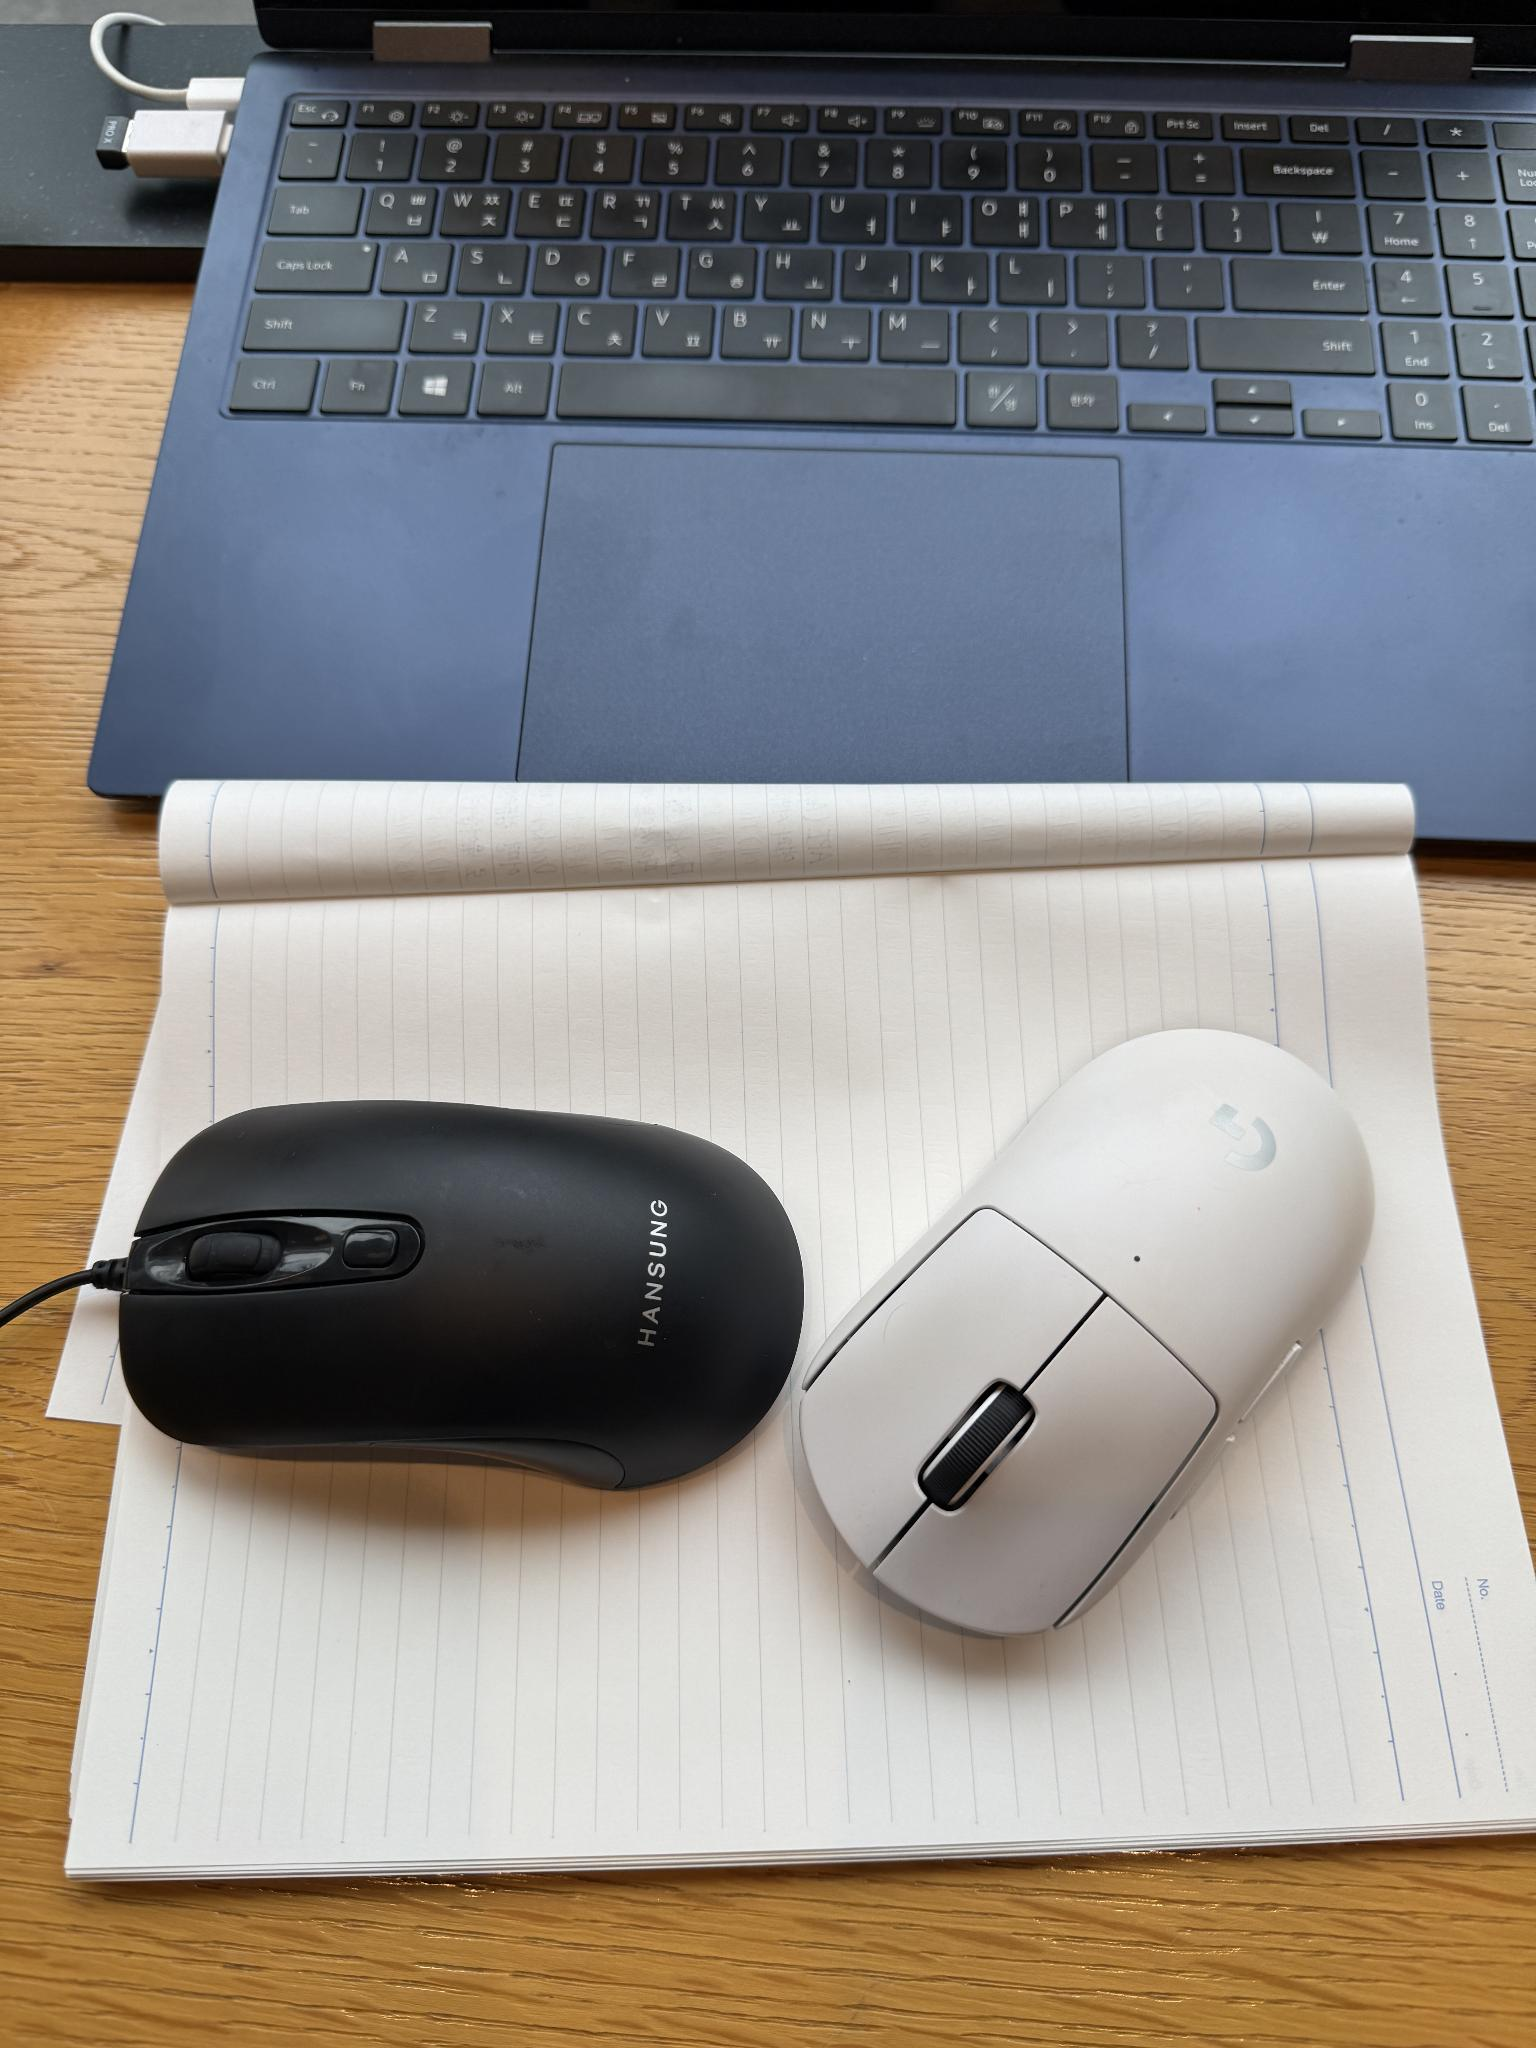front: (792, 1014, 1381, 1635), (123, 1097, 807, 1506)
